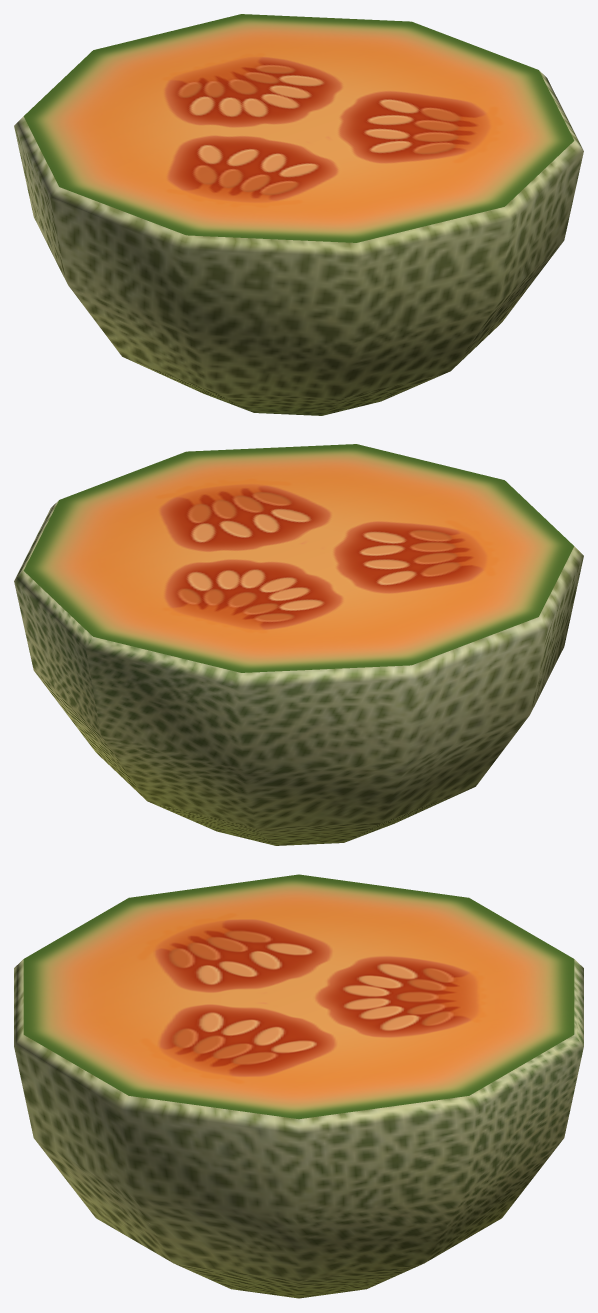
Rendered from Cantaloupe_Half.fbx.
3 renders of one model, top to bottom at view 1: azimuth 30°, elevation 25°; view 2: azimuth 150°, elevation 25°; view 3: azimuth 270°, elevation 25°, orthographic. The views are drawn at different scales.
Visible parts, largest first — view 1: Canteloupe_Half; view 2: Canteloupe_Half; view 3: Canteloupe_Half.
Boxes of the visible parts, box(x1,y1,x2,y2) form: Canteloupe_Half: box(14, 14, 583, 415); Canteloupe_Half: box(14, 444, 583, 845); Canteloupe_Half: box(14, 874, 583, 1298).
Size of the model in its own units: 47.63 by 24 by 45.3.
